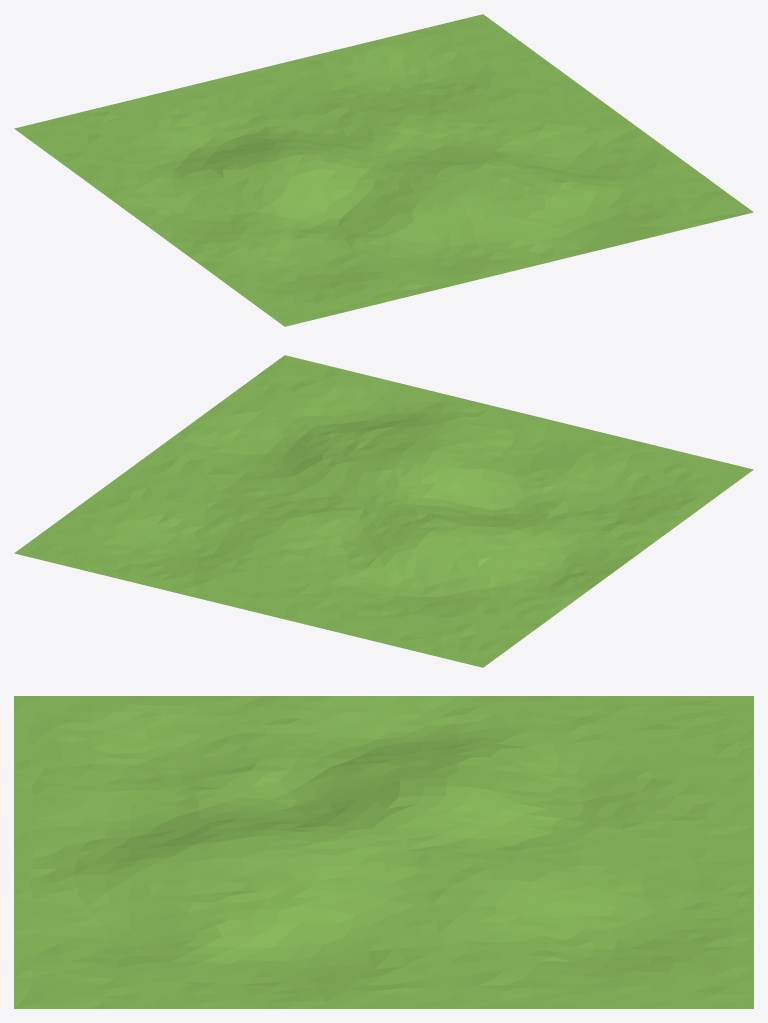
Rendered from MT_Terrain_L_a_07_LOD.fbx.
3 renders of one model, top to bottom at view 1: azimuth 30°, elevation 25°; view 2: azimuth 150°, elevation 25°; view 3: azimuth 270°, elevation 25°, orthographic. The views are drawn at different scales.
Visible parts, largest first — view 1: MT_Terrain_L_a_07_LOD0; view 2: MT_Terrain_L_a_07_LOD0; view 3: MT_Terrain_L_a_07_LOD0.
Boxes of the visible parts, box(x1,y1,x2,y2) form: MT_Terrain_L_a_07_LOD0: box(14, 14, 753, 326); MT_Terrain_L_a_07_LOD0: box(14, 355, 753, 667); MT_Terrain_L_a_07_LOD0: box(14, 696, 753, 1008).
Size of what is drawn, in the model's own units: 10000 by 400 by 10000.
